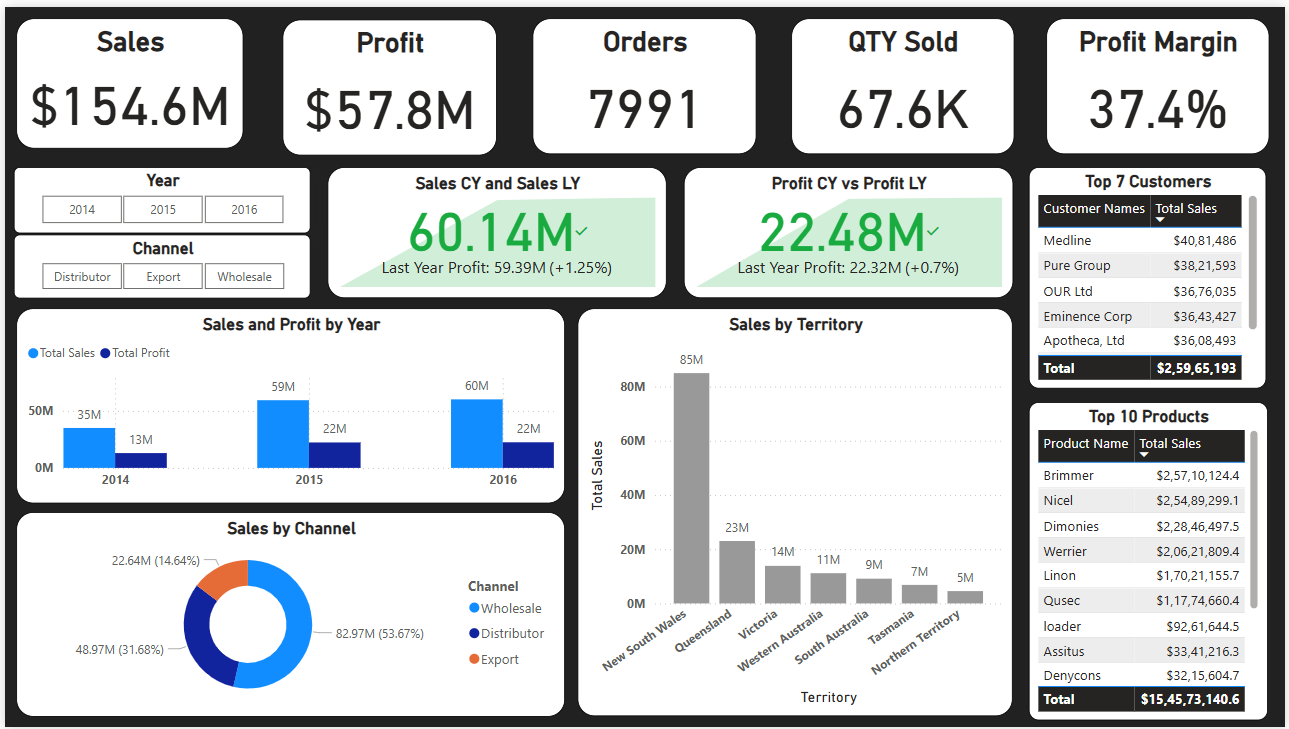

What the dashboard file says about the page in this screenshot:
{"tool":"powerbi","page":{"name":"Exec Dashboard","canvas":[1280,720],"ordinal":0},"visuals":[{"type":"card","title":"Sales","fields":{"Values":["Measure Table.Total Revenue"]},"box":[11.4,11.4,227.1,130],"z":0},{"type":"card","title":"Profit Margin","fields":{"Values":["Measure Table.Profit Margin"]},"box":[1041.4,11.4,222.9,135.7],"z":1000},{"type":"card","title":"Profit","fields":{"Values":["Measure Table.Total Profit"]},"box":[277.1,12.9,214.3,135.7],"z":2000},{"type":"card","title":"Orders","fields":{"Values":["Measure Table.Total Orders"]},"box":[527.1,11.4,224.3,135.7],"z":3000},{"type":"card","title":"QTY Sold","fields":{"Values":["Measure Table.Total QTY Sold"]},"box":[785.7,11.4,222.9,135.7],"z":4000},{"type":"tableEx","title":"Top 7 Customers","fields":{"Values":["Customer Data.Customer Names","Measure Table.Total Sales"]},"box":[1024.3,160.5,237.7,222],"z":5000},{"type":"tableEx","title":"Top 10 Products","fields":{"Values":["Product Data.Product Name","Measure Table.Total Sales"]},"box":[1024.3,394.5,238.9,318.5],"z":6000},{"type":"clusteredColumnChart","title":"Sales and  Profit by Year","fields":{"Y":["Measure Table.Total Sales","Measure Table.Total Profit"],"Category":["Calendar.Year"]},"box":[10.9,301.6,548.9,195.4],"z":7000},{"type":"donutChart","title":"Sales by Channel","fields":{"Category":["Sales.Channel"],"Y":["Measure Table.Total Sales"]},"box":[10.9,505.5,548.9,205.1],"z":8000},{"type":"columnChart","title":"Sales by Territory","fields":{"Y":["Measure Table.Total Sales"],"Category":["Regions.Territory"]},"box":[573.1,301.6,435.5,407.8],"z":9000},{"type":"slicer","title":"Year","fields":{"Values":["Calendar.Year"]},"box":[8.4,160.5,296.8,66.4],"z":10000},{"type":"slicer","title":"Channel","fields":{"Values":["Sales.Channel"]},"box":[8.6,227.1,297.1,64.3],"z":11000},{"type":"kpi","title":"Sales CY and Sales LY ","fields":{"Indicator":["Measure Table.Total Sales"],"Goal":["Measure Table.Sales LY"],"TrendLine":["Calendar.Year"]},"box":[322.1,160.5,339,131.5],"z":12000},{"type":"kpi","title":"Profit CY vs Profit LY","fields":{"TrendLine":["Calendar.Year"],"Indicator":["Measure Table.Total Profit"],"Goal":["Measure Table.Profit LY"]},"box":[679.2,160.5,329.4,131.5],"z":13000}]}

Visuals, with their boxes in screenshot pixels (x1, y1, x2, y2), scaled from the page's 1280x720 canvas onto the 1289x729 screenshot:
"Sales" card: bbox(11, 12, 240, 143)
"Profit Margin" card: bbox(1049, 12, 1273, 149)
"Profit" card: bbox(279, 13, 495, 150)
"Orders" card: bbox(531, 12, 757, 149)
"QTY Sold" card: bbox(791, 12, 1016, 149)
"Top 7 Customers" tableEx: bbox(1032, 163, 1271, 387)
"Top 10 Products" tableEx: bbox(1032, 399, 1272, 722)
"Sales and  Profit by Year" clusteredColumnChart: bbox(11, 305, 564, 503)
"Sales by Channel" donutChart: bbox(11, 512, 564, 719)
"Sales by Territory" columnChart: bbox(577, 305, 1016, 718)
"Year" slicer: bbox(8, 163, 307, 230)
"Channel" slicer: bbox(9, 230, 308, 295)
"Sales CY and Sales LY " kpi: bbox(324, 163, 666, 296)
"Profit CY vs Profit LY" kpi: bbox(684, 163, 1016, 296)
